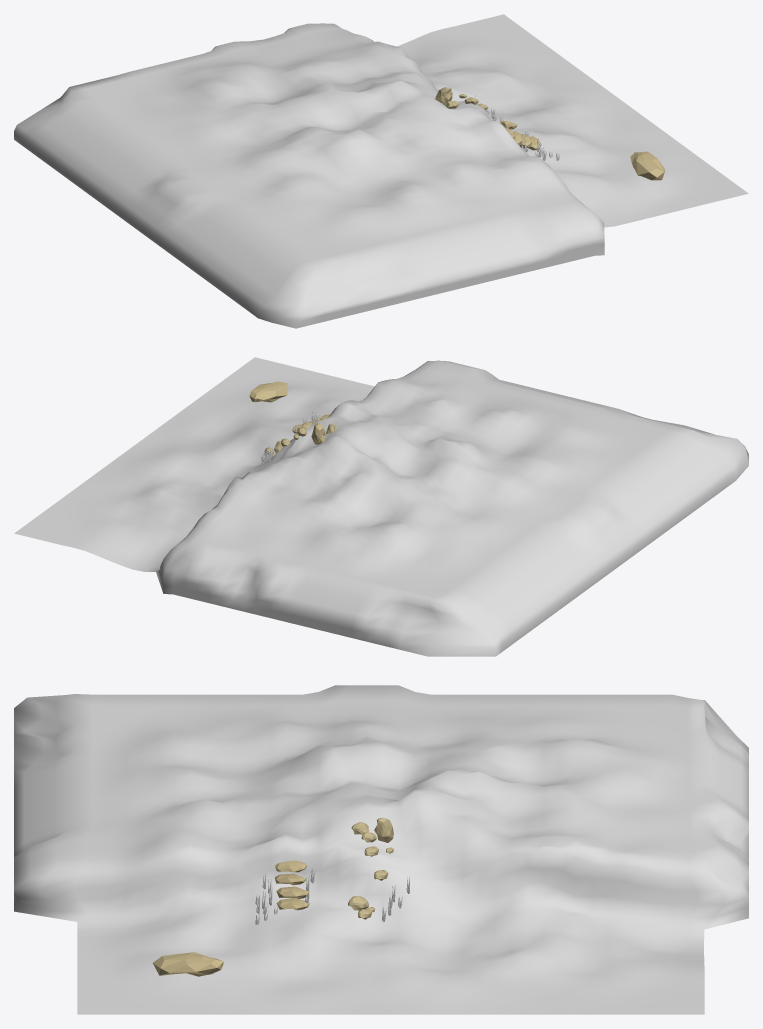
File: Blocagem_Menor.fbx
The picture shows the model from 3 angles, top to bottom: view 1: azimuth 30°, elevation 25°; view 2: azimuth 150°, elevation 25°; view 3: azimuth 270°, elevation 25°; orthographic projection. The views are drawn at different scales.
Parts seen in each view (by area): view 1: Montanha.001, Degrau.004; view 2: Montanha.001, Degrau.004; view 3: Montanha.001, Degrau.004.
Part boxes in pixels (x1=…): Montanha.001: x1=14, y1=14, x2=748, y2=328; Degrau.004: x1=630, y1=151, x2=664, y2=180; Montanha.001: x1=14, y1=357, x2=748, y2=656; Degrau.004: x1=249, y1=381, x2=287, y2=402; Montanha.001: x1=14, y1=685, x2=748, y2=1014; Degrau.004: x1=153, y1=952, x2=223, y2=976.
Size of the model in its own units: 931 by 140 by 946.
